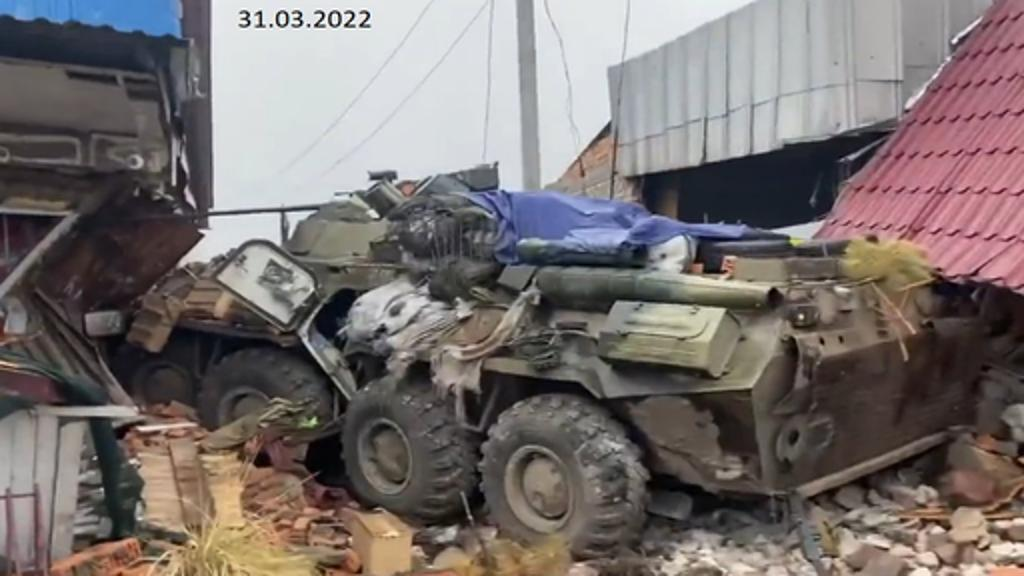APC-IFV: (108, 150, 996, 568)
